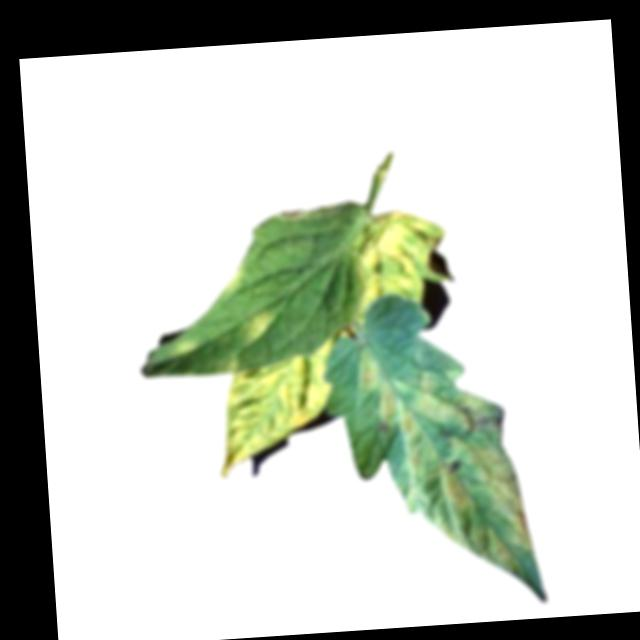Leaf_Mold: (356, 334, 530, 581), (210, 337, 341, 477), (347, 208, 447, 318), (213, 262, 250, 304), (245, 307, 281, 346), (168, 335, 205, 365)
